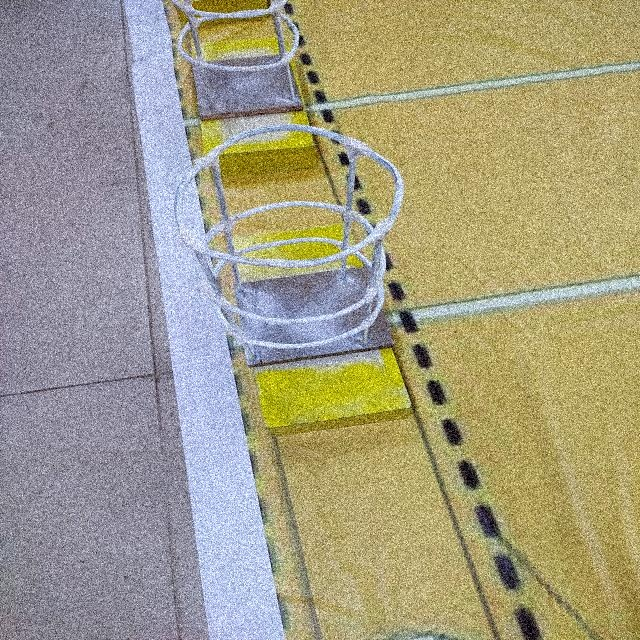silo: (156, 114, 431, 383)
